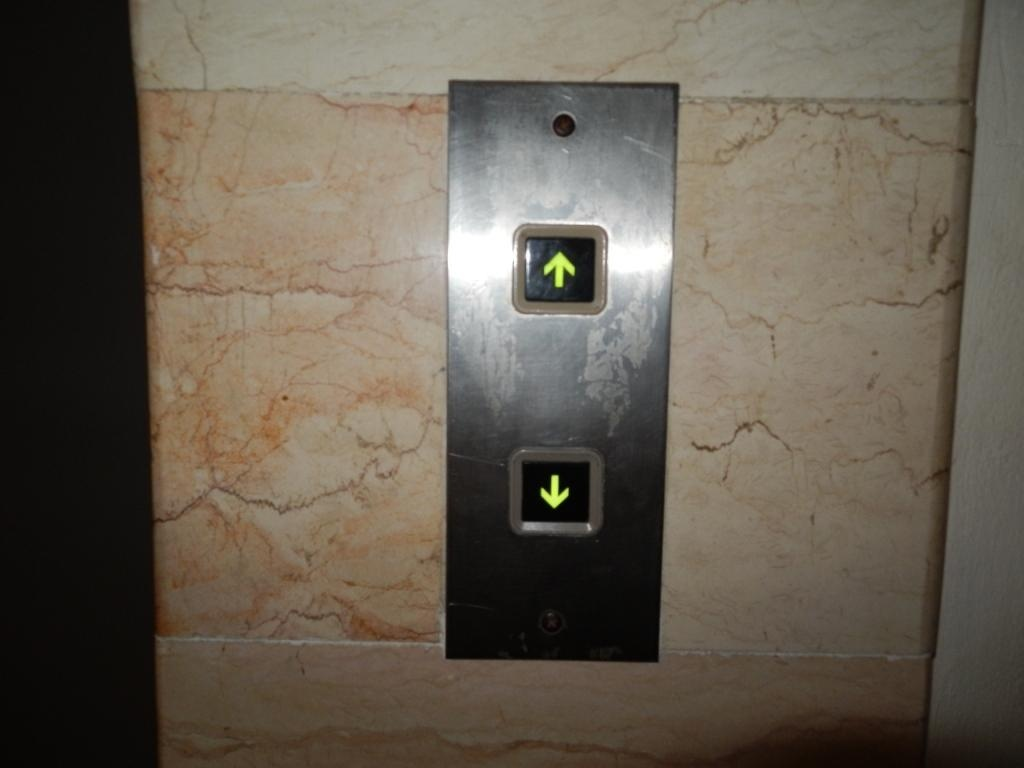down: (509, 446, 604, 535)
up: (513, 223, 608, 314)
